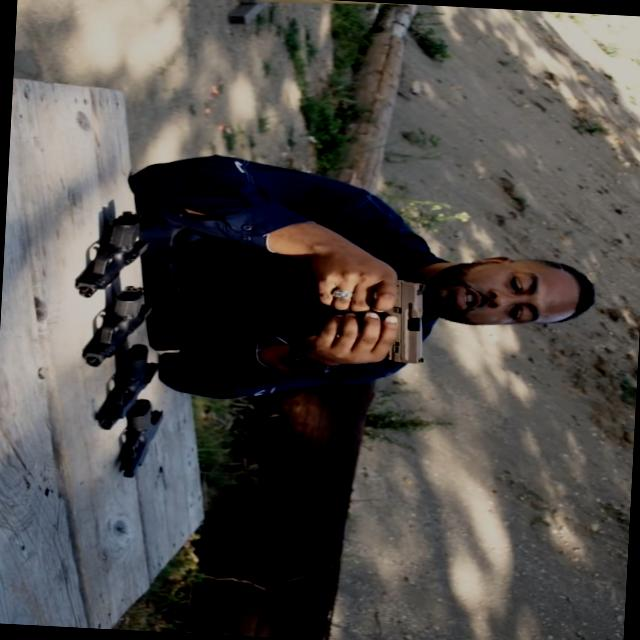handgun: (328, 254, 438, 370), (55, 205, 152, 299), (70, 338, 160, 436), (72, 283, 162, 380), (114, 392, 178, 481)
